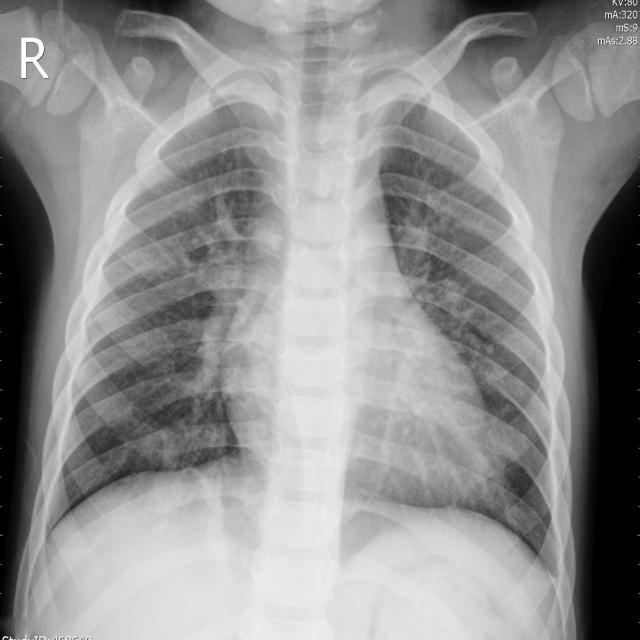low-pneumonia: (183, 206, 257, 411)
